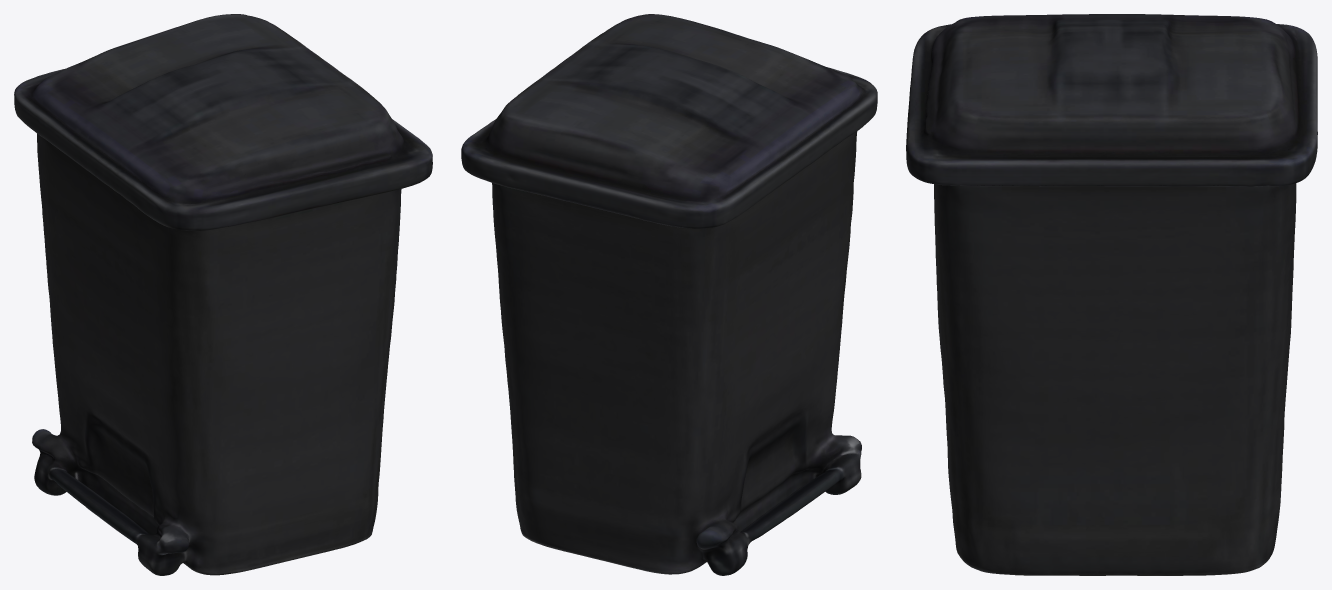
File: 39857cb7d41e_black_indoor_trashc.fbx
3 views of the same model, side by side, from view 1: azimuth 30°, elevation 25°; view 2: azimuth 150°, elevation 25°; view 3: azimuth 270°, elevation 25° (orthographic). The views are drawn at different scales.
Visible parts, largest first — view 1: high_poly; view 2: high_poly; view 3: high_poly.
Part boxes in pixels (<box>): high_poly: <box>14,14,432,575</box>; high_poly: <box>461,14,877,575</box>; high_poly: <box>906,14,1317,575</box>.
Bounding box in the file's own units: 63.38 × 100 × 77.47.
